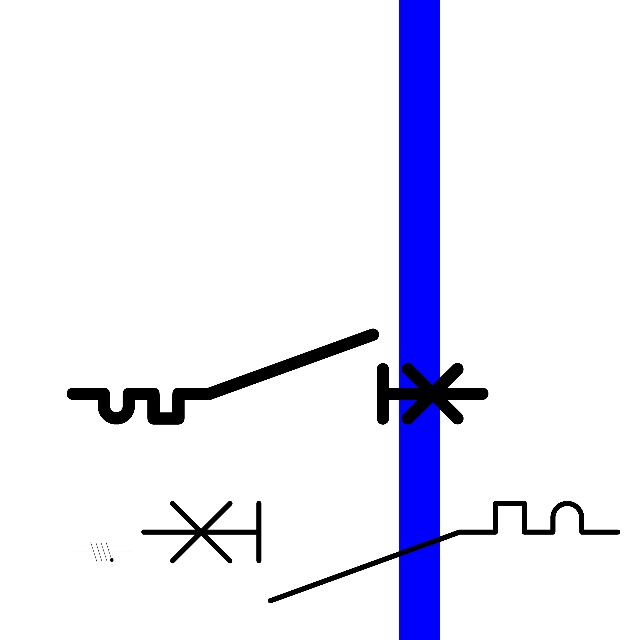interruptor_termomagnetico: (131, 491, 630, 613), (62, 324, 493, 429)
